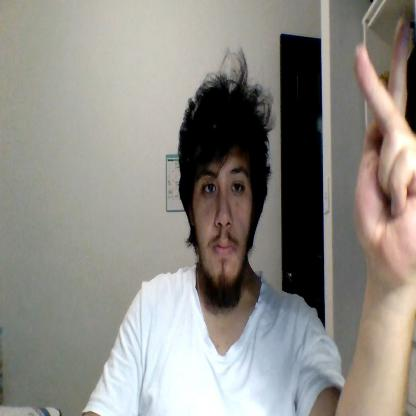P: (352, 14, 416, 276)
